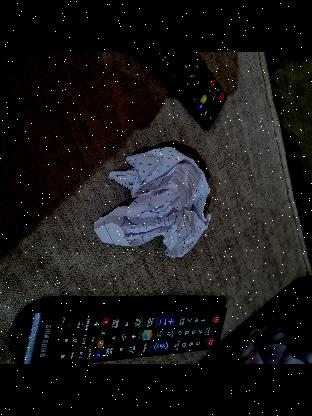Others: (92, 146, 214, 264)
